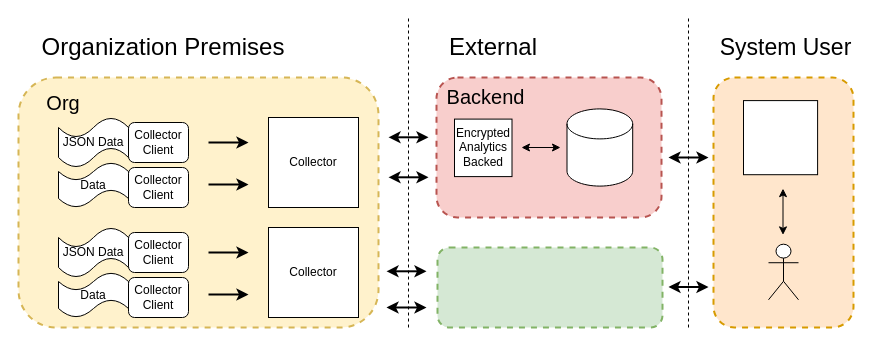
This 875x346 diagram has some shape labels left out. The box of each missing label's shape, as (x1, y1, x2, y2) in pixels:
Encrypted Data DB: (566, 108, 633, 186)
KMS: (436, 246, 663, 328)
Query Client: (742, 100, 818, 175)
